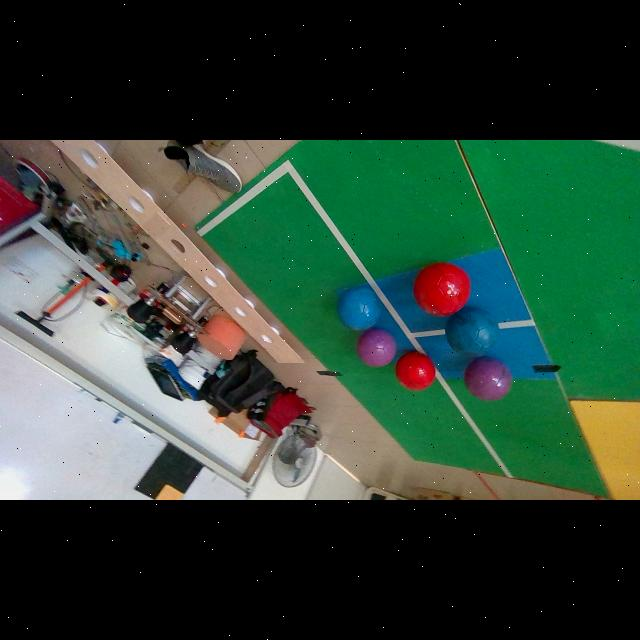B: (446, 307, 497, 357), (338, 285, 380, 330)
P: (465, 357, 512, 401), (356, 328, 397, 367)
R: (413, 263, 471, 317), (395, 352, 436, 391)
